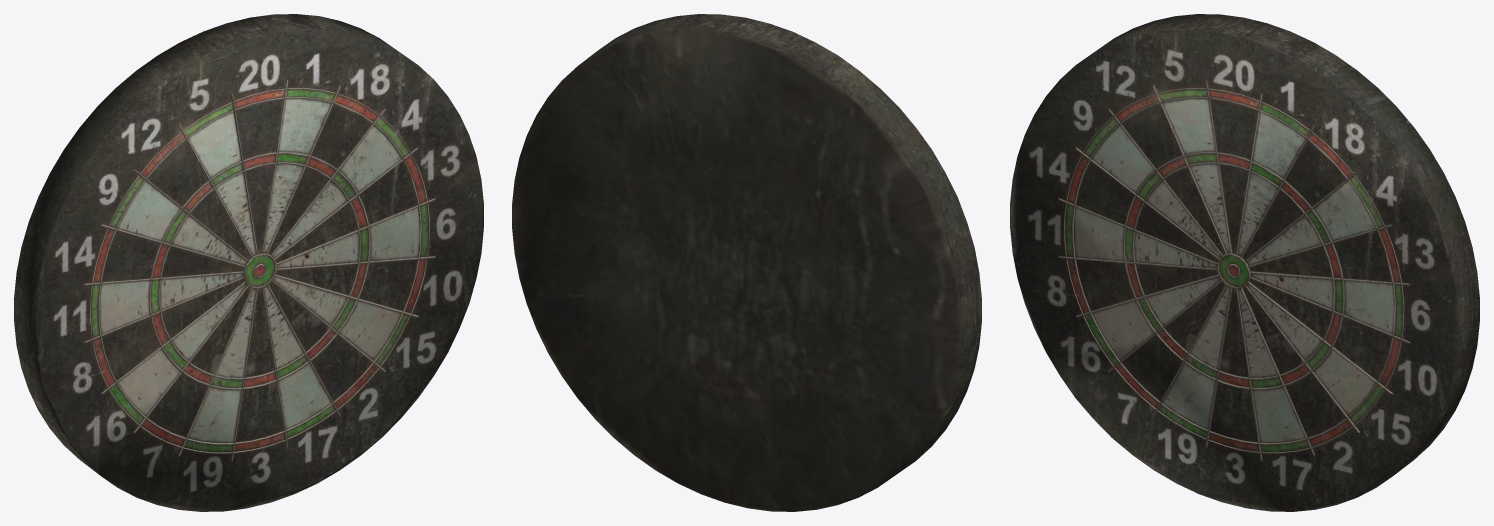
Rendered from dartboard.glb.
3 views of the same model, side by side, from view 1: azimuth 30°, elevation 25°; view 2: azimuth 150°, elevation 25°; view 3: azimuth 330°, elevation 25° (orthographic).
Parts seen in each view (by area): view 1: dartboard; view 2: dartboard; view 3: dartboard.
Part boxes in pixels (bbox=[...]): dartboard: bbox=[14, 14, 483, 511]; dartboard: bbox=[512, 14, 981, 511]; dartboard: bbox=[1010, 14, 1479, 511].
Size of the model in its own units: 0.4507 by 0.4507 by 0.0398.
Materials: 1 (1 with a texture image).
